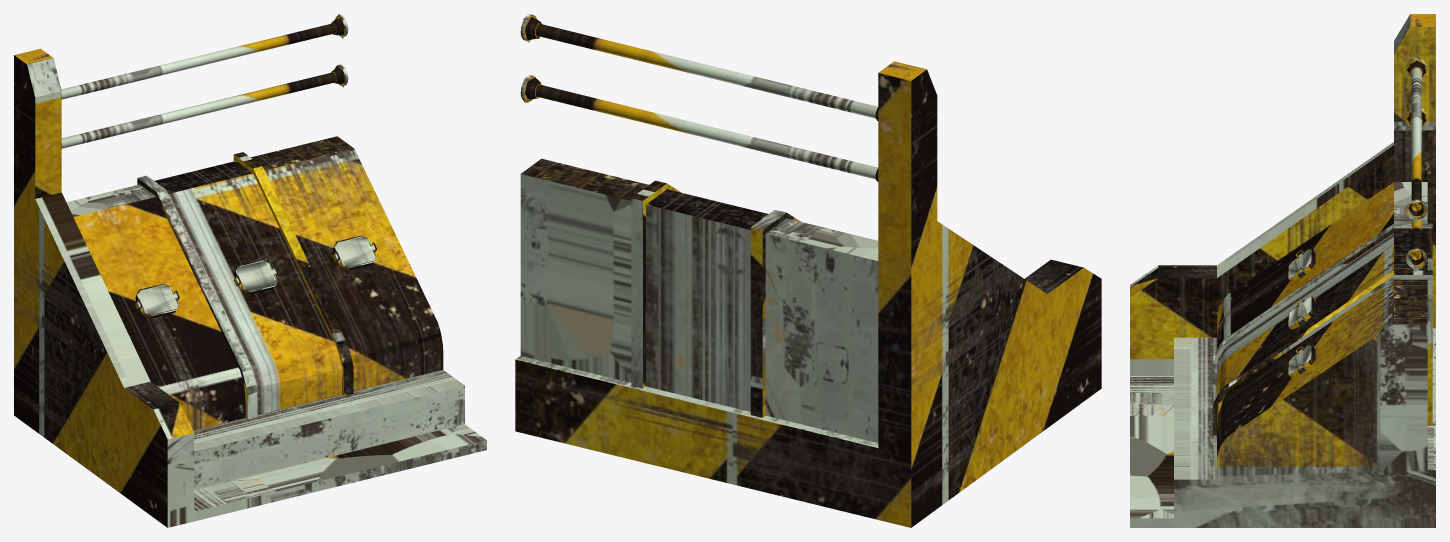
The model's file is sm_barrier01.glb.
3 renders of one model, left to right at view 1: azimuth 30°, elevation 25°; view 2: azimuth 150°, elevation 25°; view 3: azimuth 270°, elevation 25°, orthographic. The views are drawn at different scales.
Parts seen in each view (by area): view 1: sm_barrier01_00; view 2: sm_barrier01_00; view 3: sm_barrier01_00.
Part boxes in pixels (x1,y1,x2,y2): sm_barrier01_00: [14, 14, 486, 527]; sm_barrier01_00: [515, 14, 1101, 527]; sm_barrier01_00: [1130, 14, 1435, 527].
Size of the model in its own units: 1.2 by 1.3 by 1.
1 material, 1 textured.
